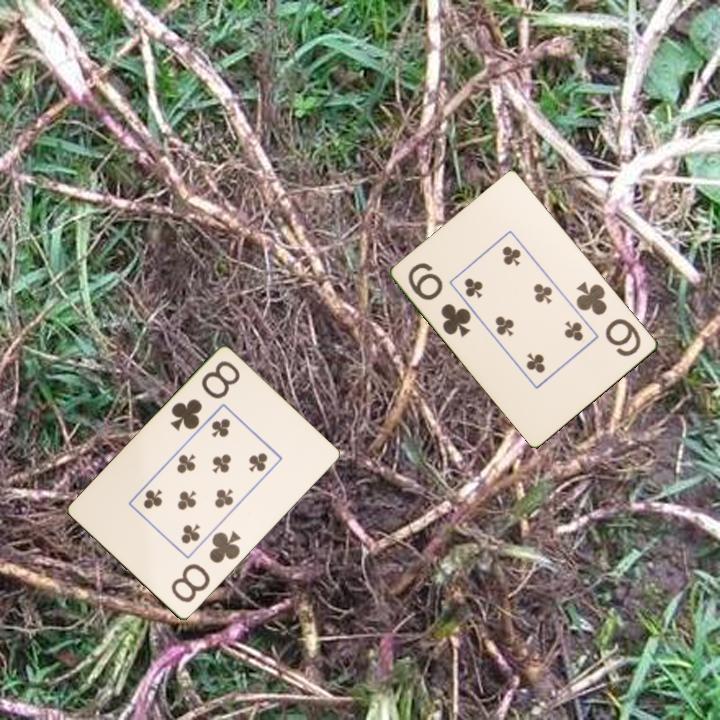6c: (573, 278, 644, 360), (404, 259, 475, 340)
8c: (167, 527, 244, 606), (166, 357, 243, 434)
